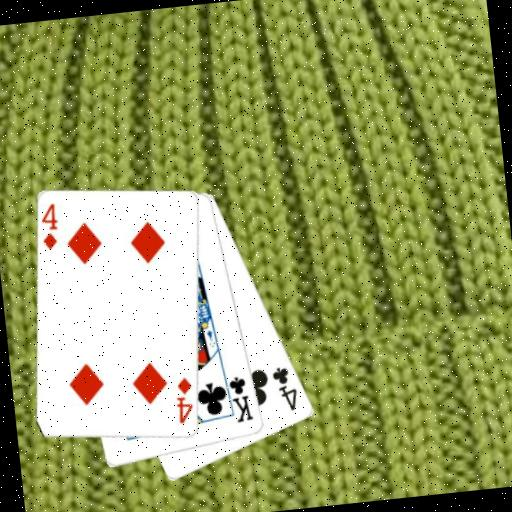4C: (269, 363, 301, 415)
4D: (171, 375, 198, 427), (36, 201, 63, 253)
KC: (220, 369, 256, 426)
